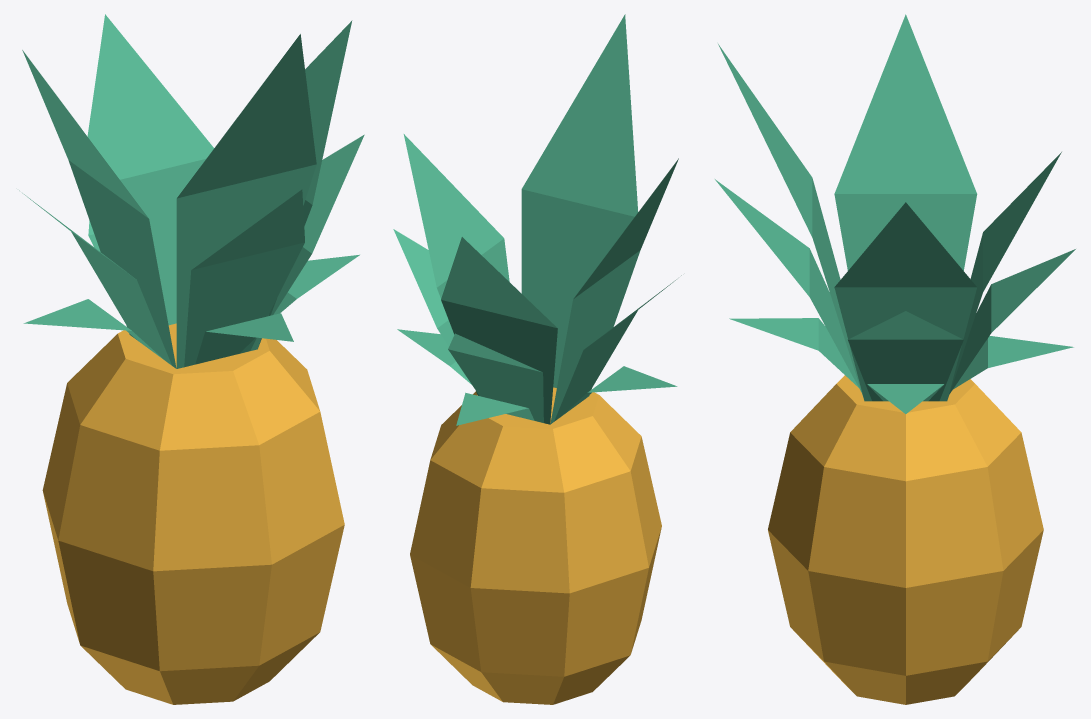
File: pineapple.dae
The picture shows the model from 3 angles, left to right: view 1: azimuth 30°, elevation 25°; view 2: azimuth 150°, elevation 25°; view 3: azimuth 270°, elevation 25°; orthographic projection. The views are drawn at different scales.
Parts seen in each view (by area): view 1: pineapple; view 2: pineapple; view 3: pineapple.
Part boxes in pixels (x1=…): pineapple: x1=19, y1=14, x2=364, y2=704; pineapple: x1=393, y1=14, x2=681, y2=704; pineapple: x1=715, y1=14, x2=1075, y2=704.
Bounding box in the file's own units: 0.2412 × 0.4716 × 0.2448.
